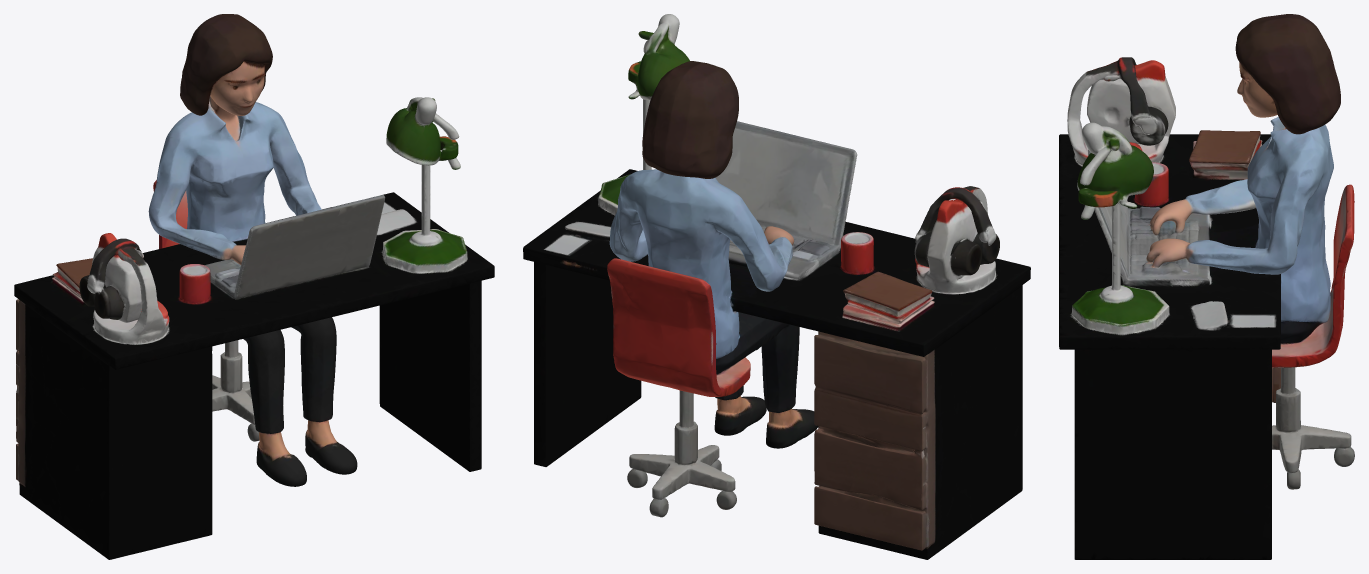
The model's file is elena-empleada.glb.
The picture shows the model from 3 angles, left to right: view 1: azimuth 30°, elevation 25°; view 2: azimuth 150°, elevation 25°; view 3: azimuth 270°, elevation 25°; orthographic projection. The views are drawn at different scales.
Parts seen in each view (by area): view 1: tripo_node_8cbfec9d-b8ac-4841-8027-c2db499c8e94; view 2: tripo_node_8cbfec9d-b8ac-4841-8027-c2db499c8e94; view 3: tripo_node_8cbfec9d-b8ac-4841-8027-c2db499c8e94.
Boxes of the visible parts, <box> form: tripo_node_8cbfec9d-b8ac-4841-8027-c2db499c8e94: <box>14,14,494,559</box>; tripo_node_8cbfec9d-b8ac-4841-8027-c2db499c8e94: <box>523,14,1030,559</box>; tripo_node_8cbfec9d-b8ac-4841-8027-c2db499c8e94: <box>1059,14,1354,559</box>.
Bounding box in the file's own units: 0.9485 × 1 × 0.5847.
1 material, 1 textured.
